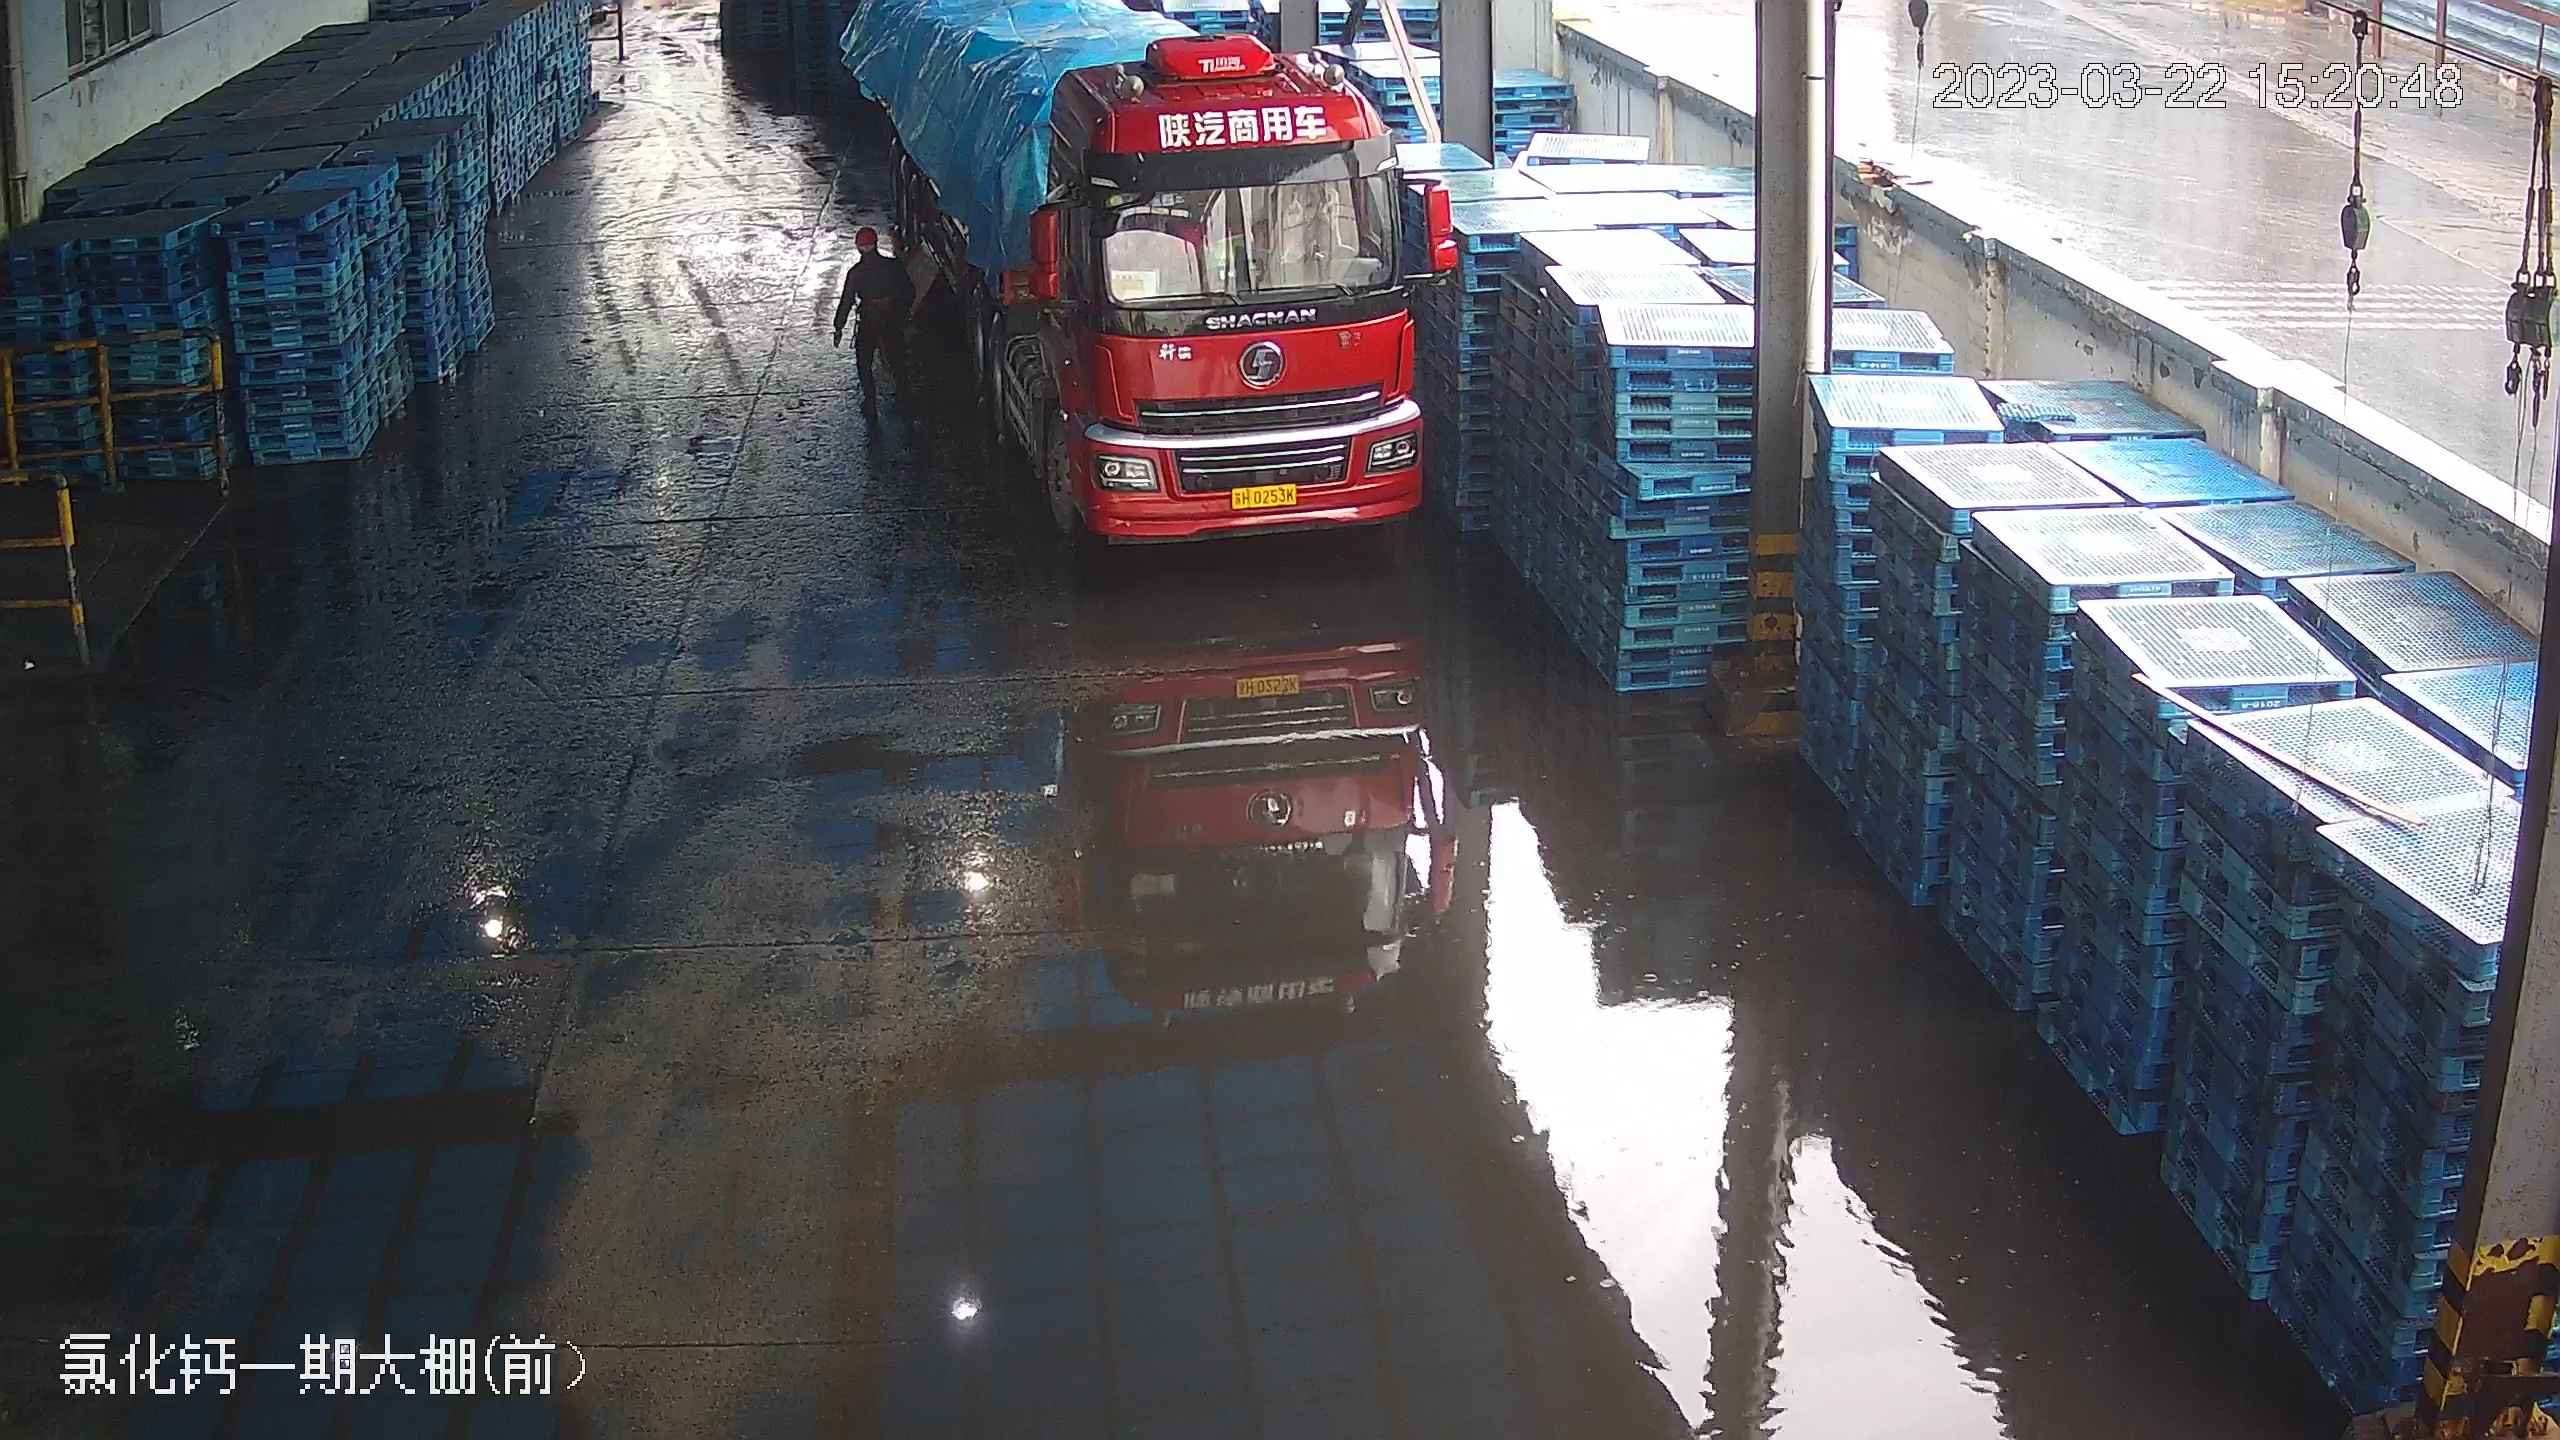head: (845, 223, 900, 280)
helmet: (856, 224, 886, 249)
people: (830, 221, 910, 408)
truck: (821, 8, 1455, 547)
